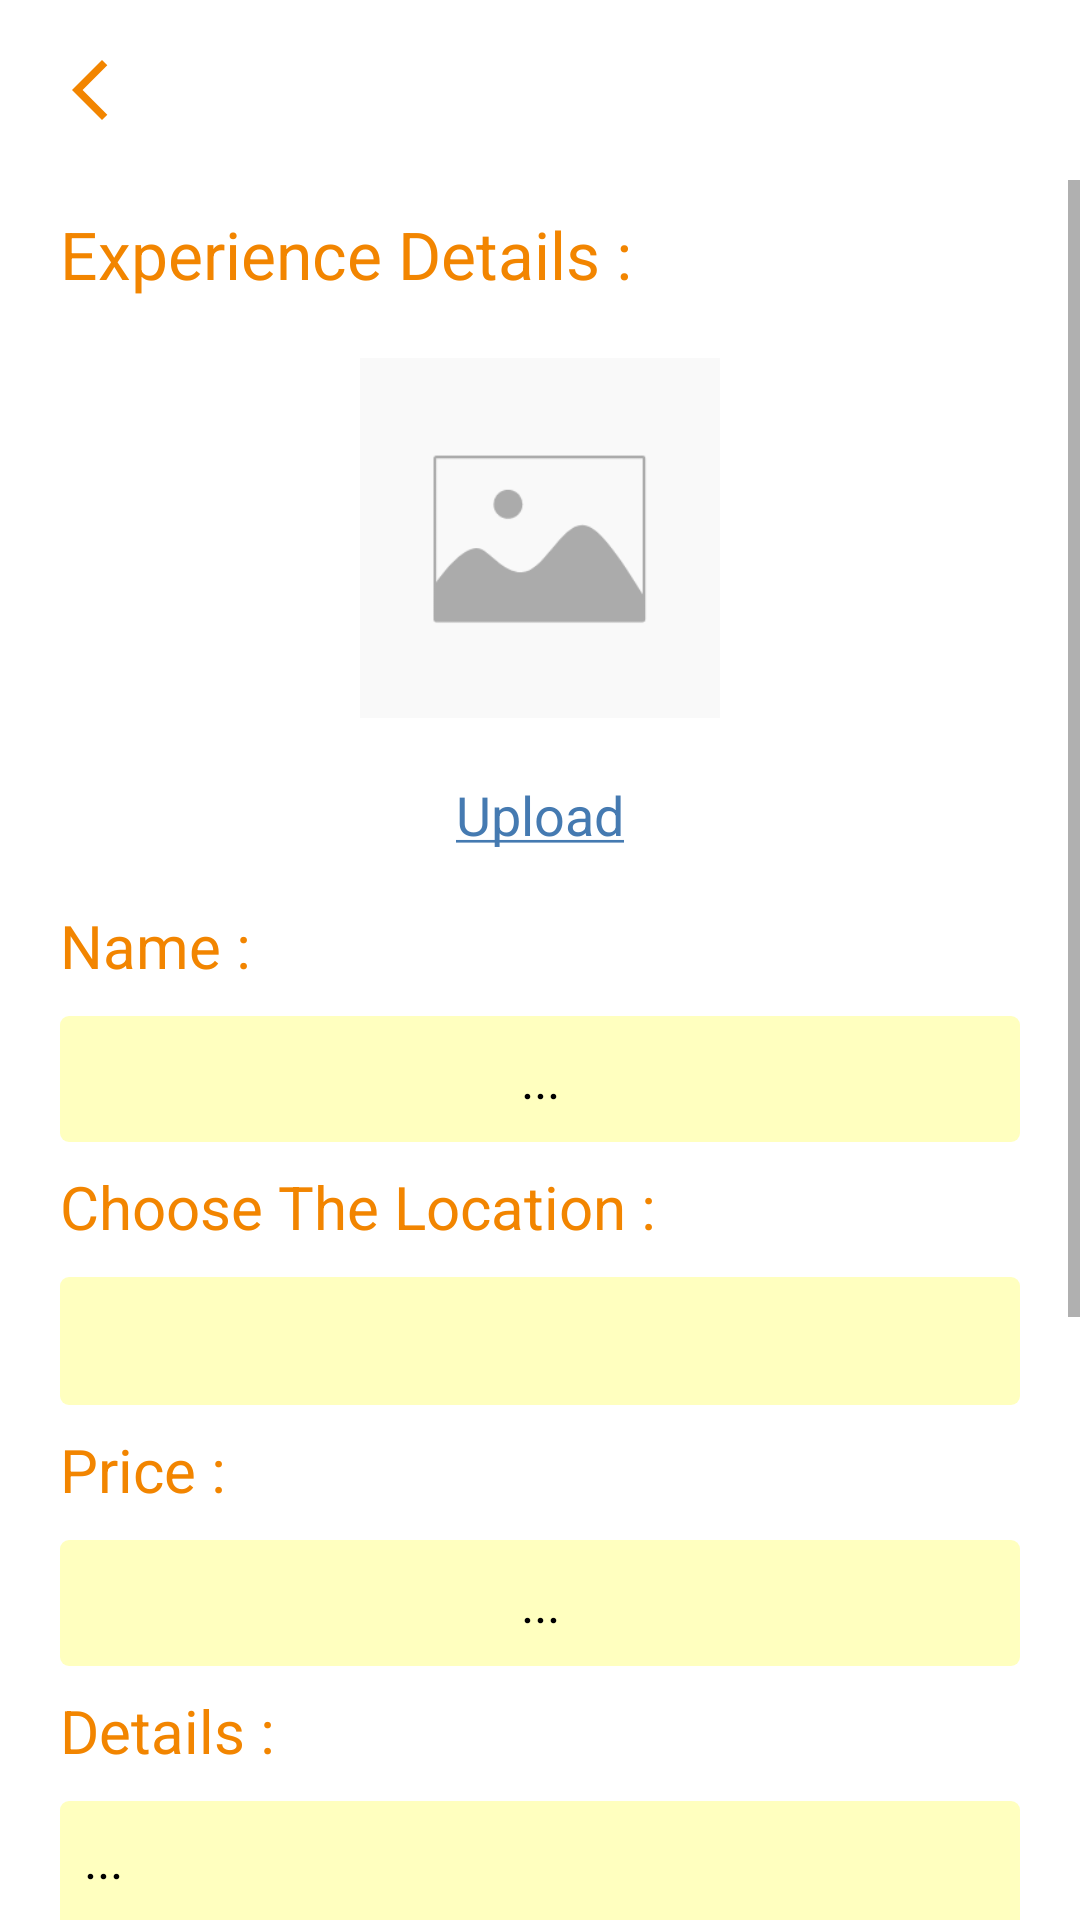

Icon bounding boxes for this 1080×1920 phone screenshot, format (x1,y1,x2,y2):
add picture: (433,455,646,623)
back: (72,60,107,120)
